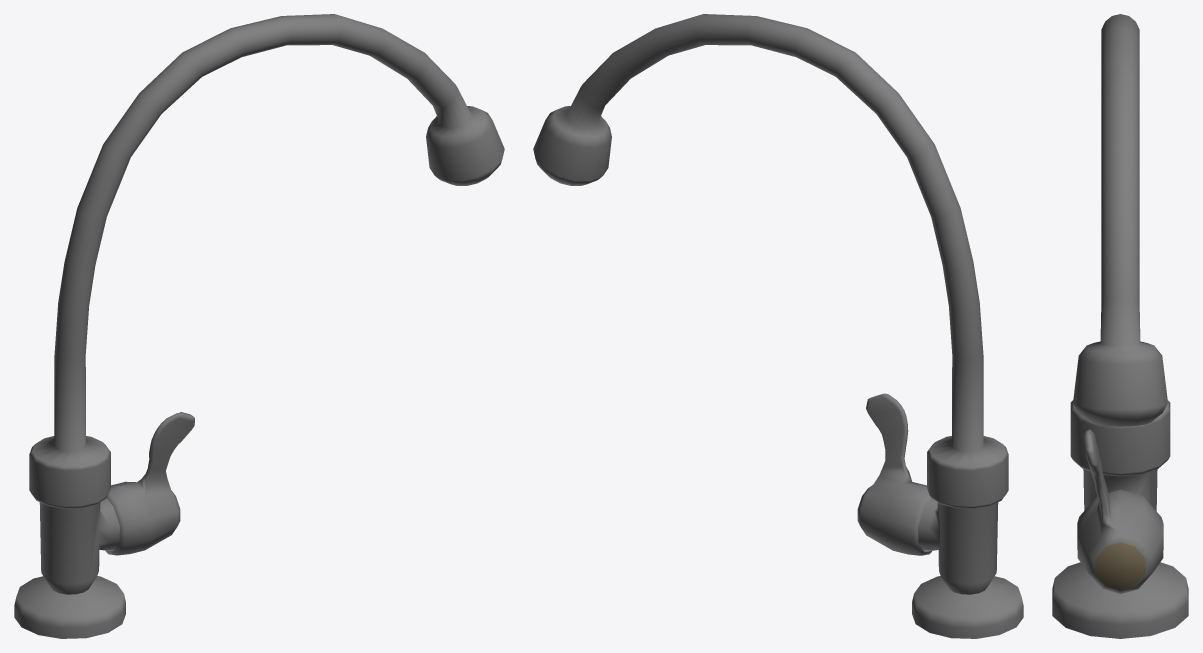
The model's file is Faucet.fbx.
3 renders of one model, left to right at view 1: azimuth 30°, elevation 25°; view 2: azimuth 150°, elevation 25°; view 3: azimuth 270°, elevation 25°, orthographic. The views are drawn at different scales.
Parts seen in each view (by area): view 1: FaucetStand, FaucetHandler; view 2: FaucetStand, FaucetHandler; view 3: FaucetStand, FaucetHandler.
Boxes of the visible parts, bbox=[...] form: FaucetStand: bbox=[14, 14, 504, 638]; FaucetHandler: bbox=[105, 412, 194, 555]; FaucetStand: bbox=[533, 14, 1023, 638]; FaucetHandler: bbox=[857, 393, 932, 555]; FaucetStand: bbox=[1052, 14, 1188, 638]; FaucetHandler: bbox=[1077, 429, 1163, 593].
Size of the model in its own units: 4.09 by 4.46 by 0.8099.
